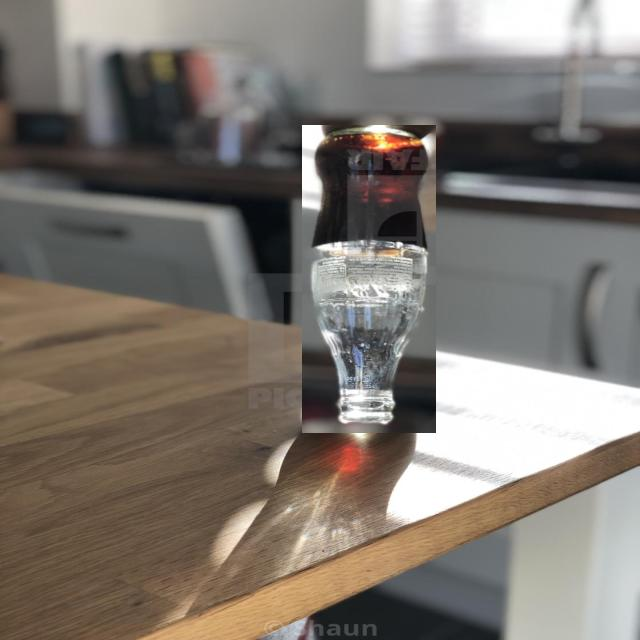coca-cola: (302, 125, 436, 433)
